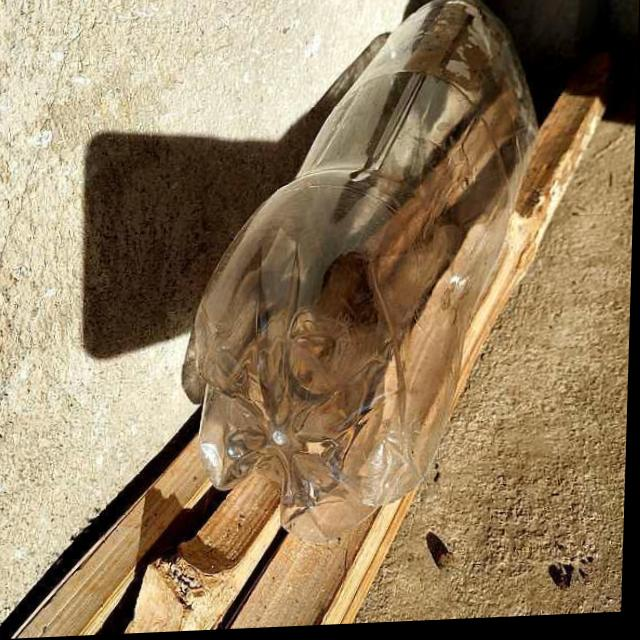Non-biodegradable: (100, 1, 559, 586)
